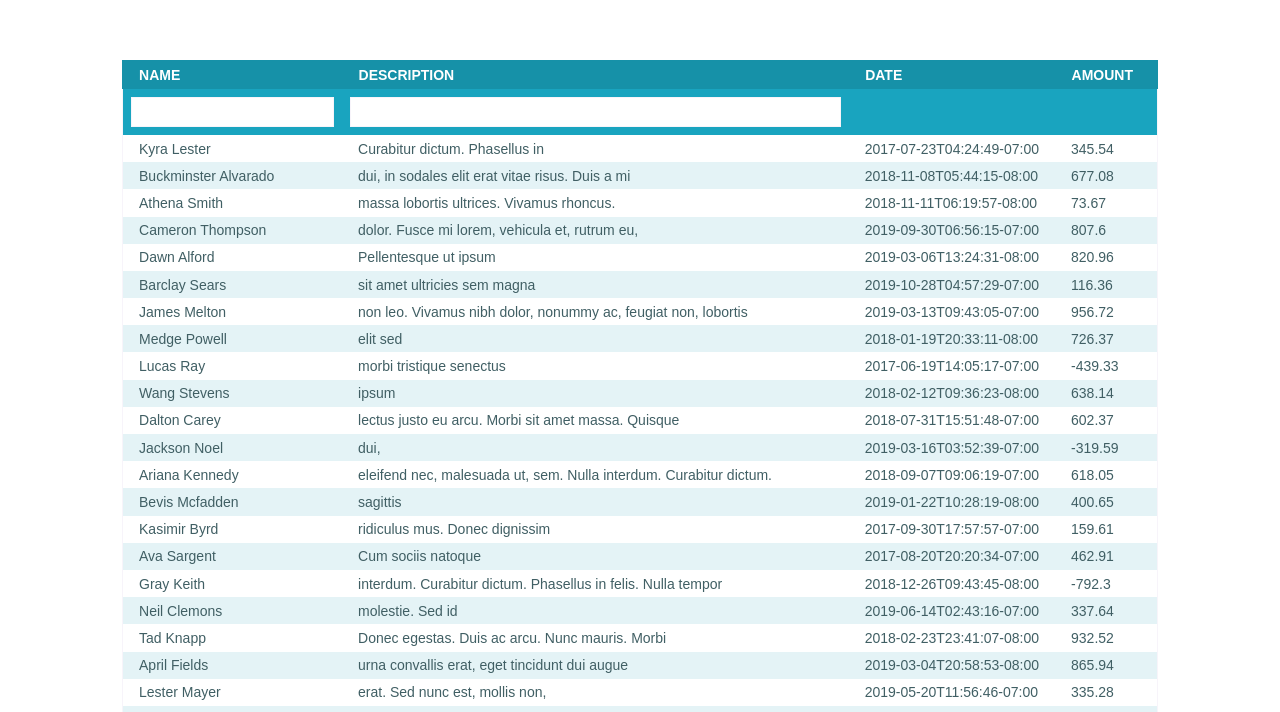
it: Tests sortability › Sorts table by Name in ascending order when user clicks on the Name column header
What coordinates should you click on to do the following:
click the column heading "Name"
I would click on:
 (233, 75)
Its box is 123,61 -> 343,89.
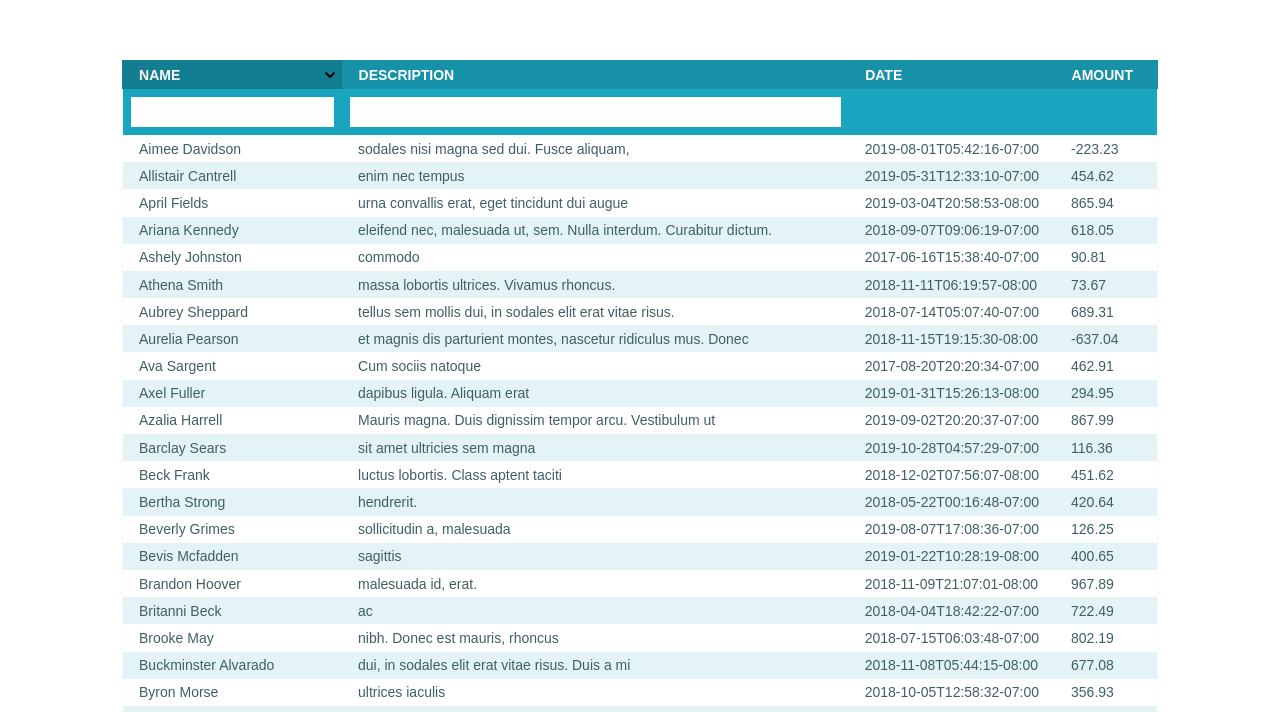
Result: the text "Aimee Davidson" is shown at 139,141 -> 241,157
